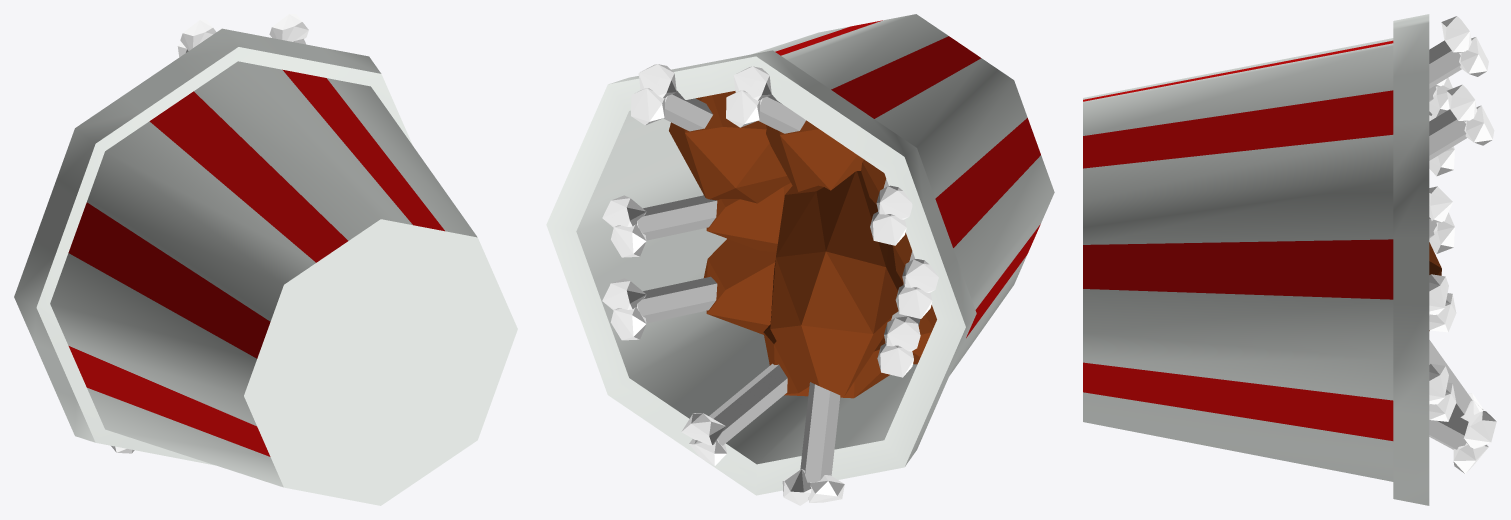
File: bucket_of_chicken.fbx
3 views of the same model, side by side, from view 1: azimuth 30°, elevation 25°; view 2: azimuth 150°, elevation 25°; view 3: azimuth 270°, elevation 25° (orthographic). The views are drawn at different scales.
Visible parts, largest first — view 1: imagetostl_mesh1, imagetostl_mesh0, imagetostl_mesh17, imagetostl_mesh12; view 2: imagetostl_mesh1, imagetostl_mesh18, imagetostl_mesh0, imagetostl_mesh16, imagetostl_mesh5, imagetostl_mesh19, imagetostl_mesh4, imagetostl_mesh3, imagetostl_mesh15, imagetostl_mesh13, imagetostl_mesh17, imagetostl_mesh2 (+7 smaller); view 3: imagetostl_mesh1, imagetostl_mesh0, imagetostl_mesh17, imagetostl_mesh12, imagetostl_mesh15, imagetostl_mesh7, imagetostl_mesh3, imagetostl_mesh4, imagetostl_mesh19, imagetostl_mesh11, imagetostl_mesh8.
Boxes of the visible parts, x1=… form: imagetostl_mesh1: x1=14, y1=28, x2=517, y2=505; imagetostl_mesh0: x1=68, y1=69, x2=444, y2=456; imagetostl_mesh17: x1=269, y1=14, x2=308, y2=44; imagetostl_mesh12: x1=177, y1=20, x2=216, y2=57; imagetostl_mesh1: x1=546, y1=14, x2=1054, y2=495; imagetostl_mesh18: x1=770, y1=171, x2=903, y2=396; imagetostl_mesh0: x1=775, y1=20, x2=1040, y2=337; imagetostl_mesh16: x1=669, y1=91, x2=790, y2=203; imagetostl_mesh5: x1=704, y1=238, x2=776, y2=334; imagetostl_mesh19: x1=782, y1=382, x2=844, y2=505; imagetostl_mesh4: x1=602, y1=276, x2=717, y2=340; imagetostl_mesh3: x1=602, y1=195, x2=717, y2=257; imagetostl_mesh15: x1=681, y1=363, x2=787, y2=465; imagetostl_mesh13: x1=766, y1=120, x2=863, y2=191; imagetostl_mesh17: x1=631, y1=64, x2=712, y2=131; imagetostl_mesh2: x1=706, y1=183, x2=792, y2=251; imagetostl_mesh1: x1=1083, y1=14, x2=1429, y2=505; imagetostl_mesh0: x1=1083, y1=40, x2=1393, y2=440; imagetostl_mesh17: x1=1429, y1=84, x2=1494, y2=160; imagetostl_mesh12: x1=1429, y1=16, x2=1488, y2=88; imagetostl_mesh15: x1=1429, y1=411, x2=1496, y2=473; imagetostl_mesh7: x1=1429, y1=186, x2=1454, y2=253; imagetostl_mesh3: x1=1429, y1=274, x2=1456, y2=332; imagetostl_mesh4: x1=1429, y1=363, x2=1456, y2=421; imagetostl_mesh19: x1=1429, y1=340, x2=1483, y2=420; imagetostl_mesh11: x1=1429, y1=77, x2=1452, y2=117; imagetostl_mesh8: x1=1429, y1=111, x2=1454, y2=176.
Size of the model in its own units: 304 by 305 by 240.
